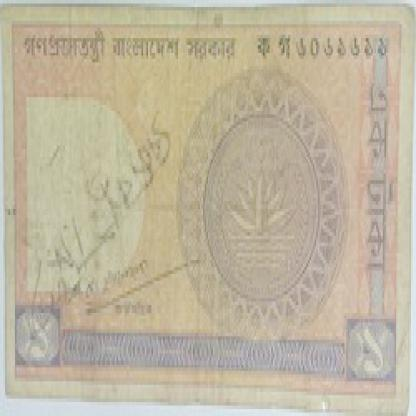One Taka: (366, 66, 394, 298), (348, 315, 396, 385), (15, 302, 62, 367)
